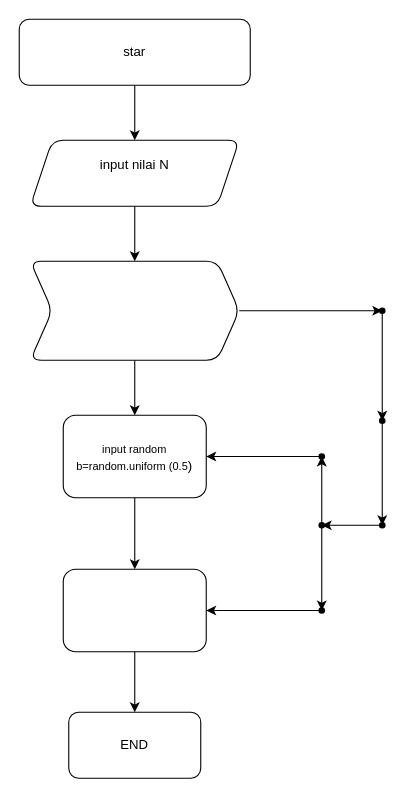
Image size: 413x798. Some labels were removed from this diagram. Each missing label, with the centre of its shape:
import random print("data ke:",a==>,b): [134,610]
input random for data in range: [134,310]
